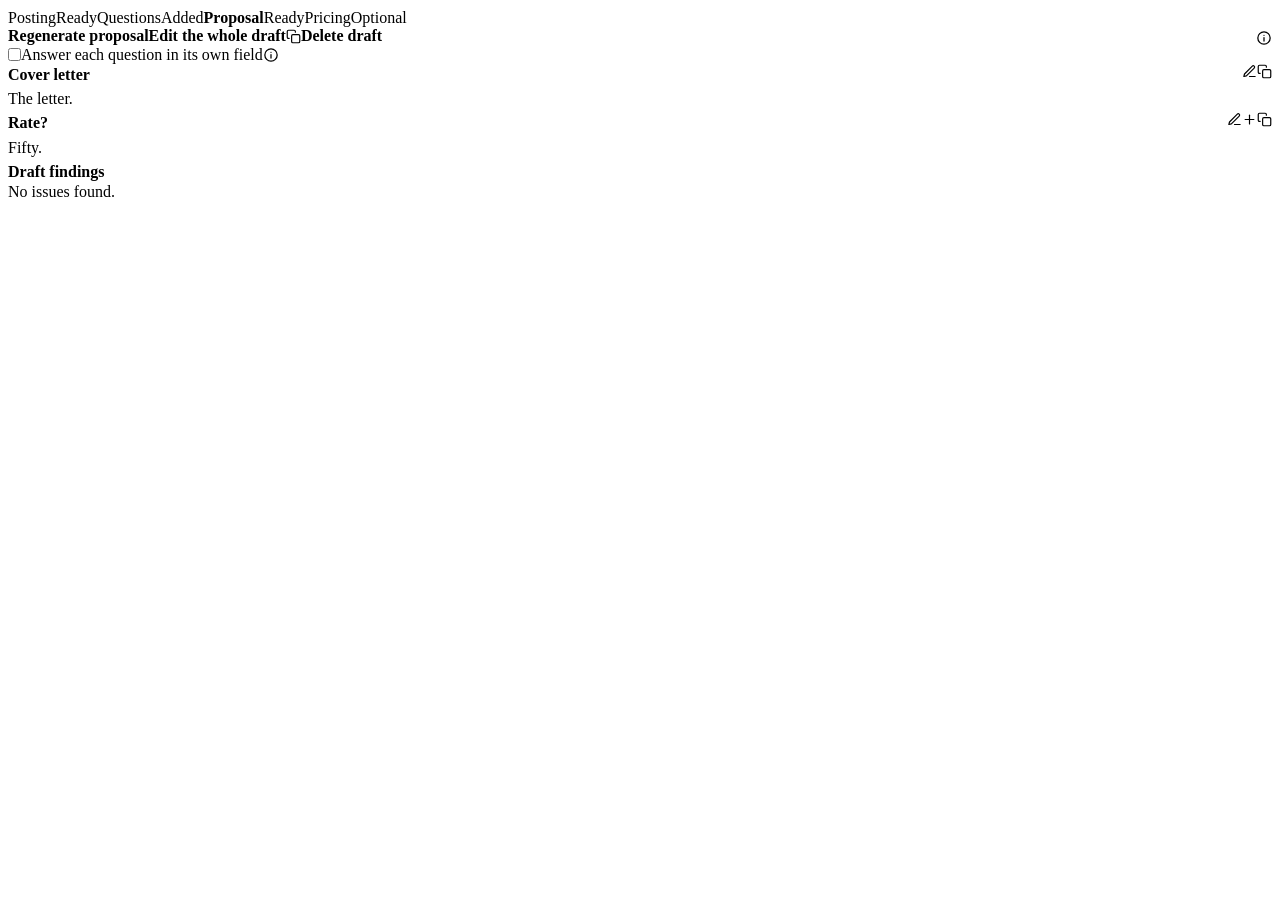
it: drafting over hand edits › asks first, keeps the edits by default, and forces only on a yes
The image size is (1280, 900).
Click the button "Regenerate proposal" at x=78, y=36, box x1=8 y1=27 x2=149 y2=45
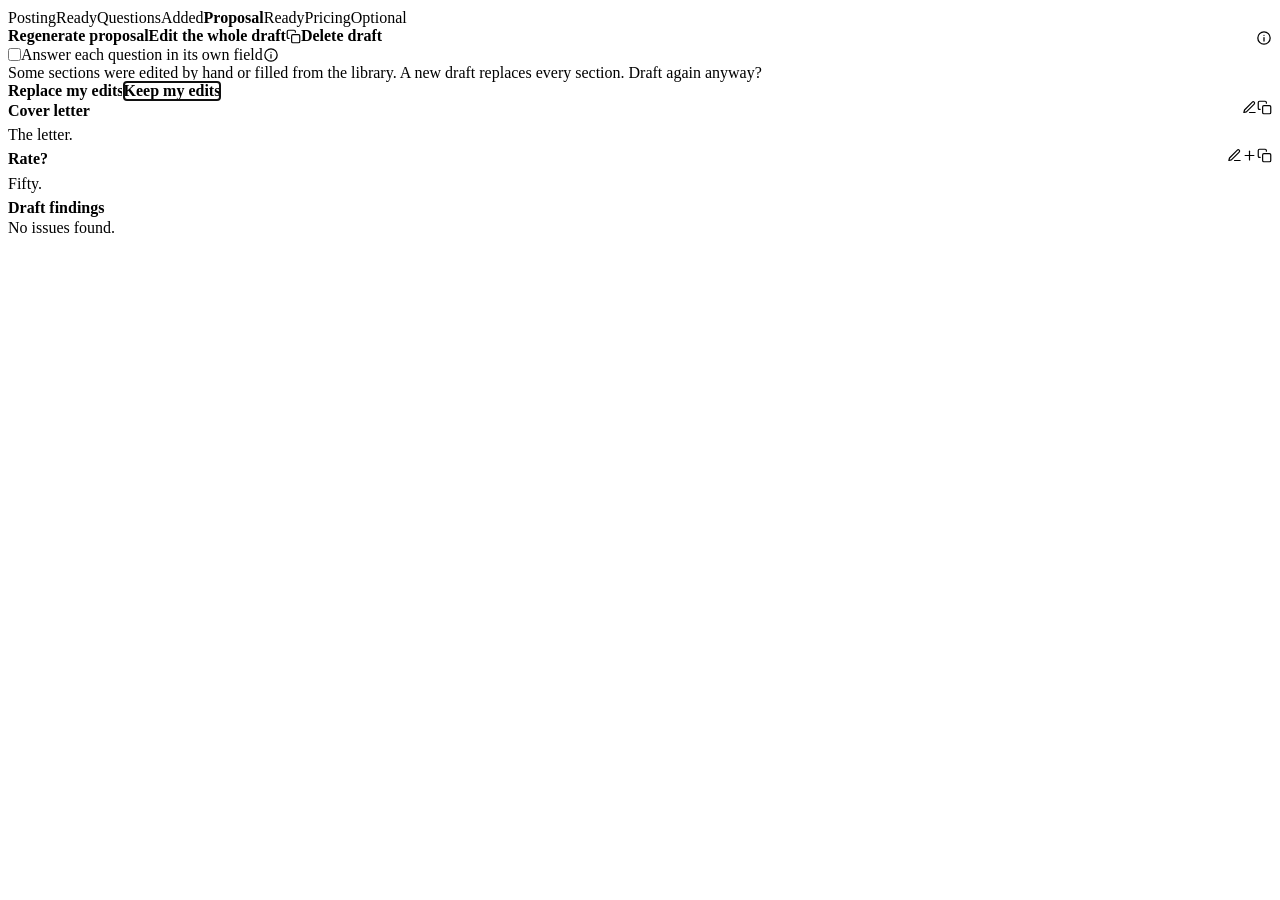
Now the text "Draft again anyway?" is shown, box x1=624 y1=64 x2=762 y2=80
Click the button "Replace my edits" at x=66, y=90, box x1=8 y1=82 x2=124 y2=100
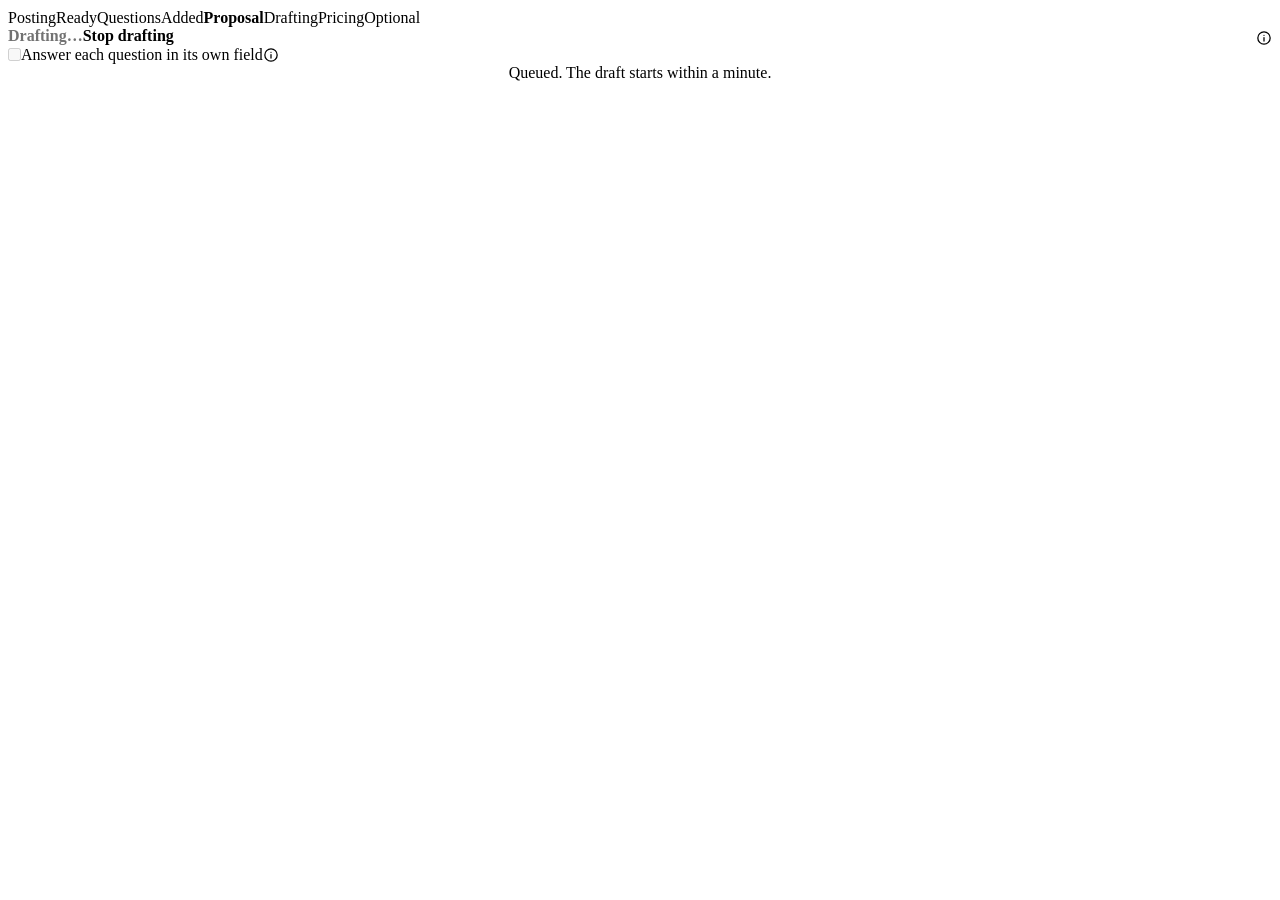
Now the text "Queued" is shown, box x1=509 y1=64 x2=771 y2=80
